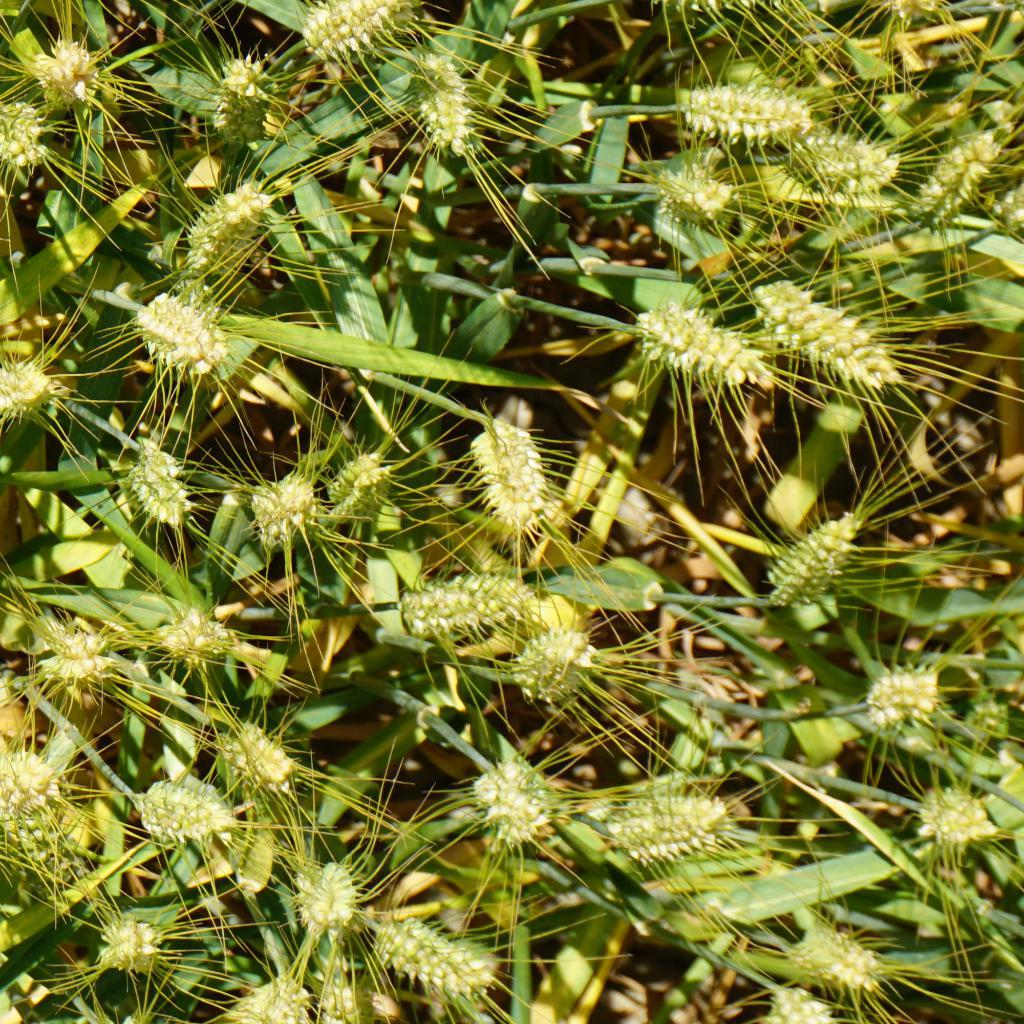0-0: (744, 281, 898, 379), (381, 913, 512, 1002), (642, 301, 765, 391), (0, 792, 93, 909), (604, 774, 722, 862), (399, 555, 529, 633), (768, 514, 866, 614), (123, 283, 224, 374), (21, 608, 126, 694), (17, 31, 114, 120), (209, 48, 293, 150), (314, 433, 397, 535), (179, 177, 275, 262), (675, 84, 813, 143), (476, 419, 549, 529), (234, 466, 326, 553), (395, 47, 472, 147), (915, 134, 996, 226), (121, 437, 199, 532), (297, 0, 397, 74), (86, 902, 165, 980), (476, 756, 547, 840), (137, 774, 224, 842), (509, 622, 584, 697), (220, 726, 305, 791), (657, 161, 750, 220), (293, 848, 360, 927), (795, 135, 900, 185), (0, 352, 66, 425), (868, 655, 935, 724), (0, 98, 55, 179), (159, 604, 234, 663), (0, 748, 62, 817), (228, 966, 300, 1024), (750, 972, 826, 1024), (815, 933, 884, 980), (923, 791, 988, 840), (872, 0, 941, 17)
